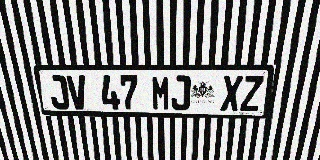4: (99, 75, 120, 110)
7: (118, 75, 139, 110)
J: (47, 75, 70, 109), (171, 75, 190, 111)
M: (151, 75, 170, 110)
V: (66, 75, 88, 110)
X: (220, 76, 243, 111)
Z: (240, 76, 264, 111)
